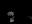person: (25, 15, 31, 21), (7, 10, 14, 15), (9, 18, 13, 23)
